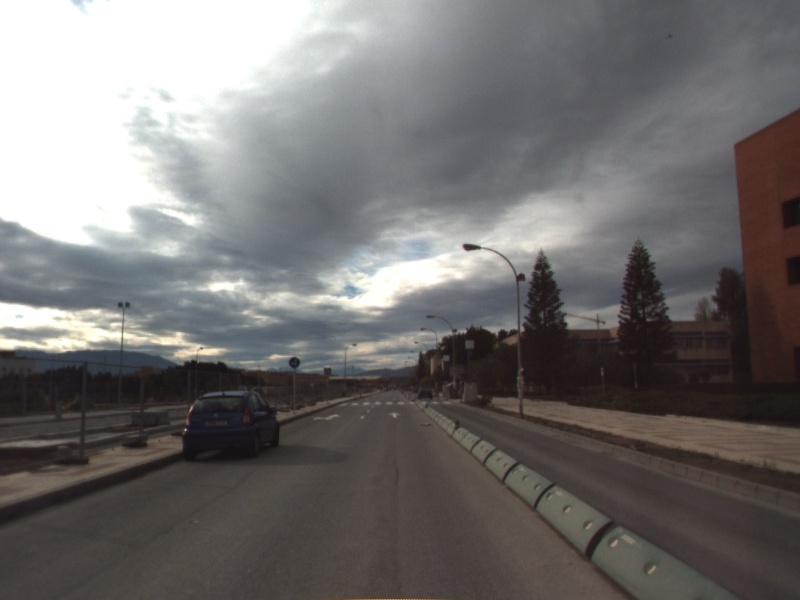STRAIGHT: (386, 410, 403, 420)
STRAIGHT_LEFT: (311, 411, 343, 423)
